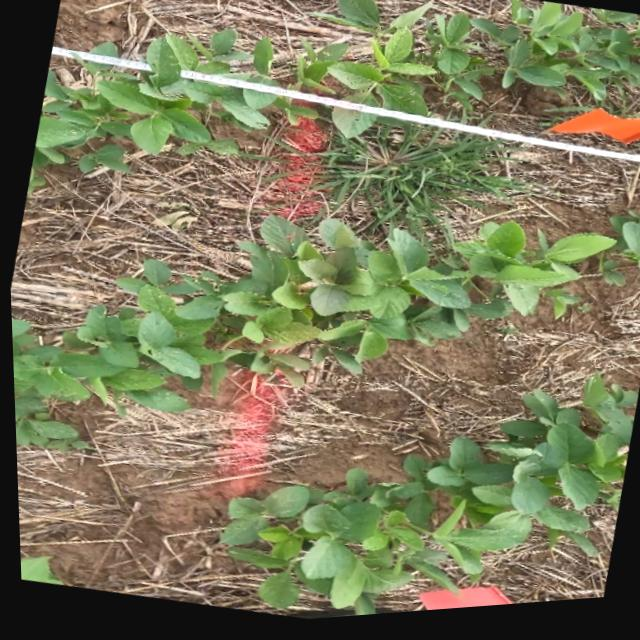grassy_weed: (311, 128, 523, 231)
soy_plant: (9, 219, 611, 448), (28, 0, 640, 180), (216, 384, 634, 621), (608, 217, 640, 281), (16, 556, 59, 584)
